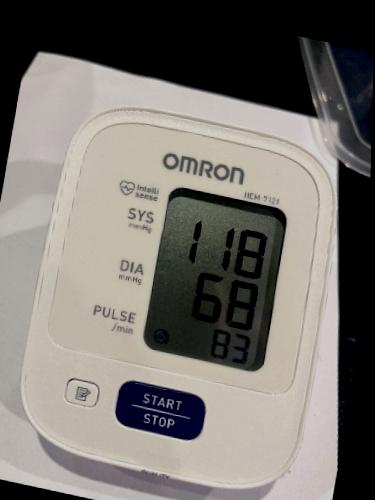bpm: (135, 180, 293, 377)
